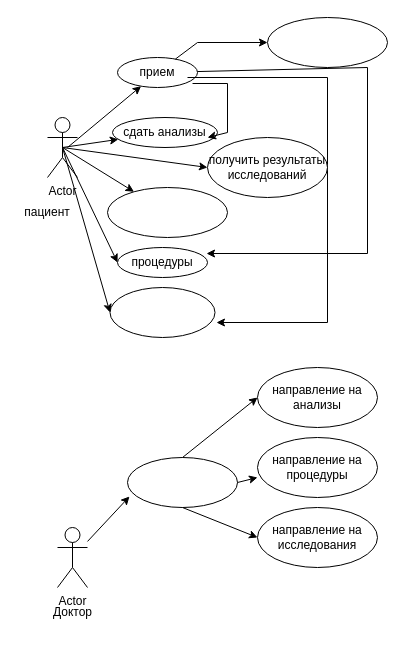
Image size: 405x645. Some labels were removed from this diagram. The shapes that lost their labels are listed below. From the top down, each one's box as (x1, y1, x2, y2) in pixels, then its label:
(266, 16, 388, 68): прием по направлению
(106, 186, 228, 238): получить результаты анализов
(109, 286, 215, 338): исследования
(126, 456, 238, 508): провести прием
